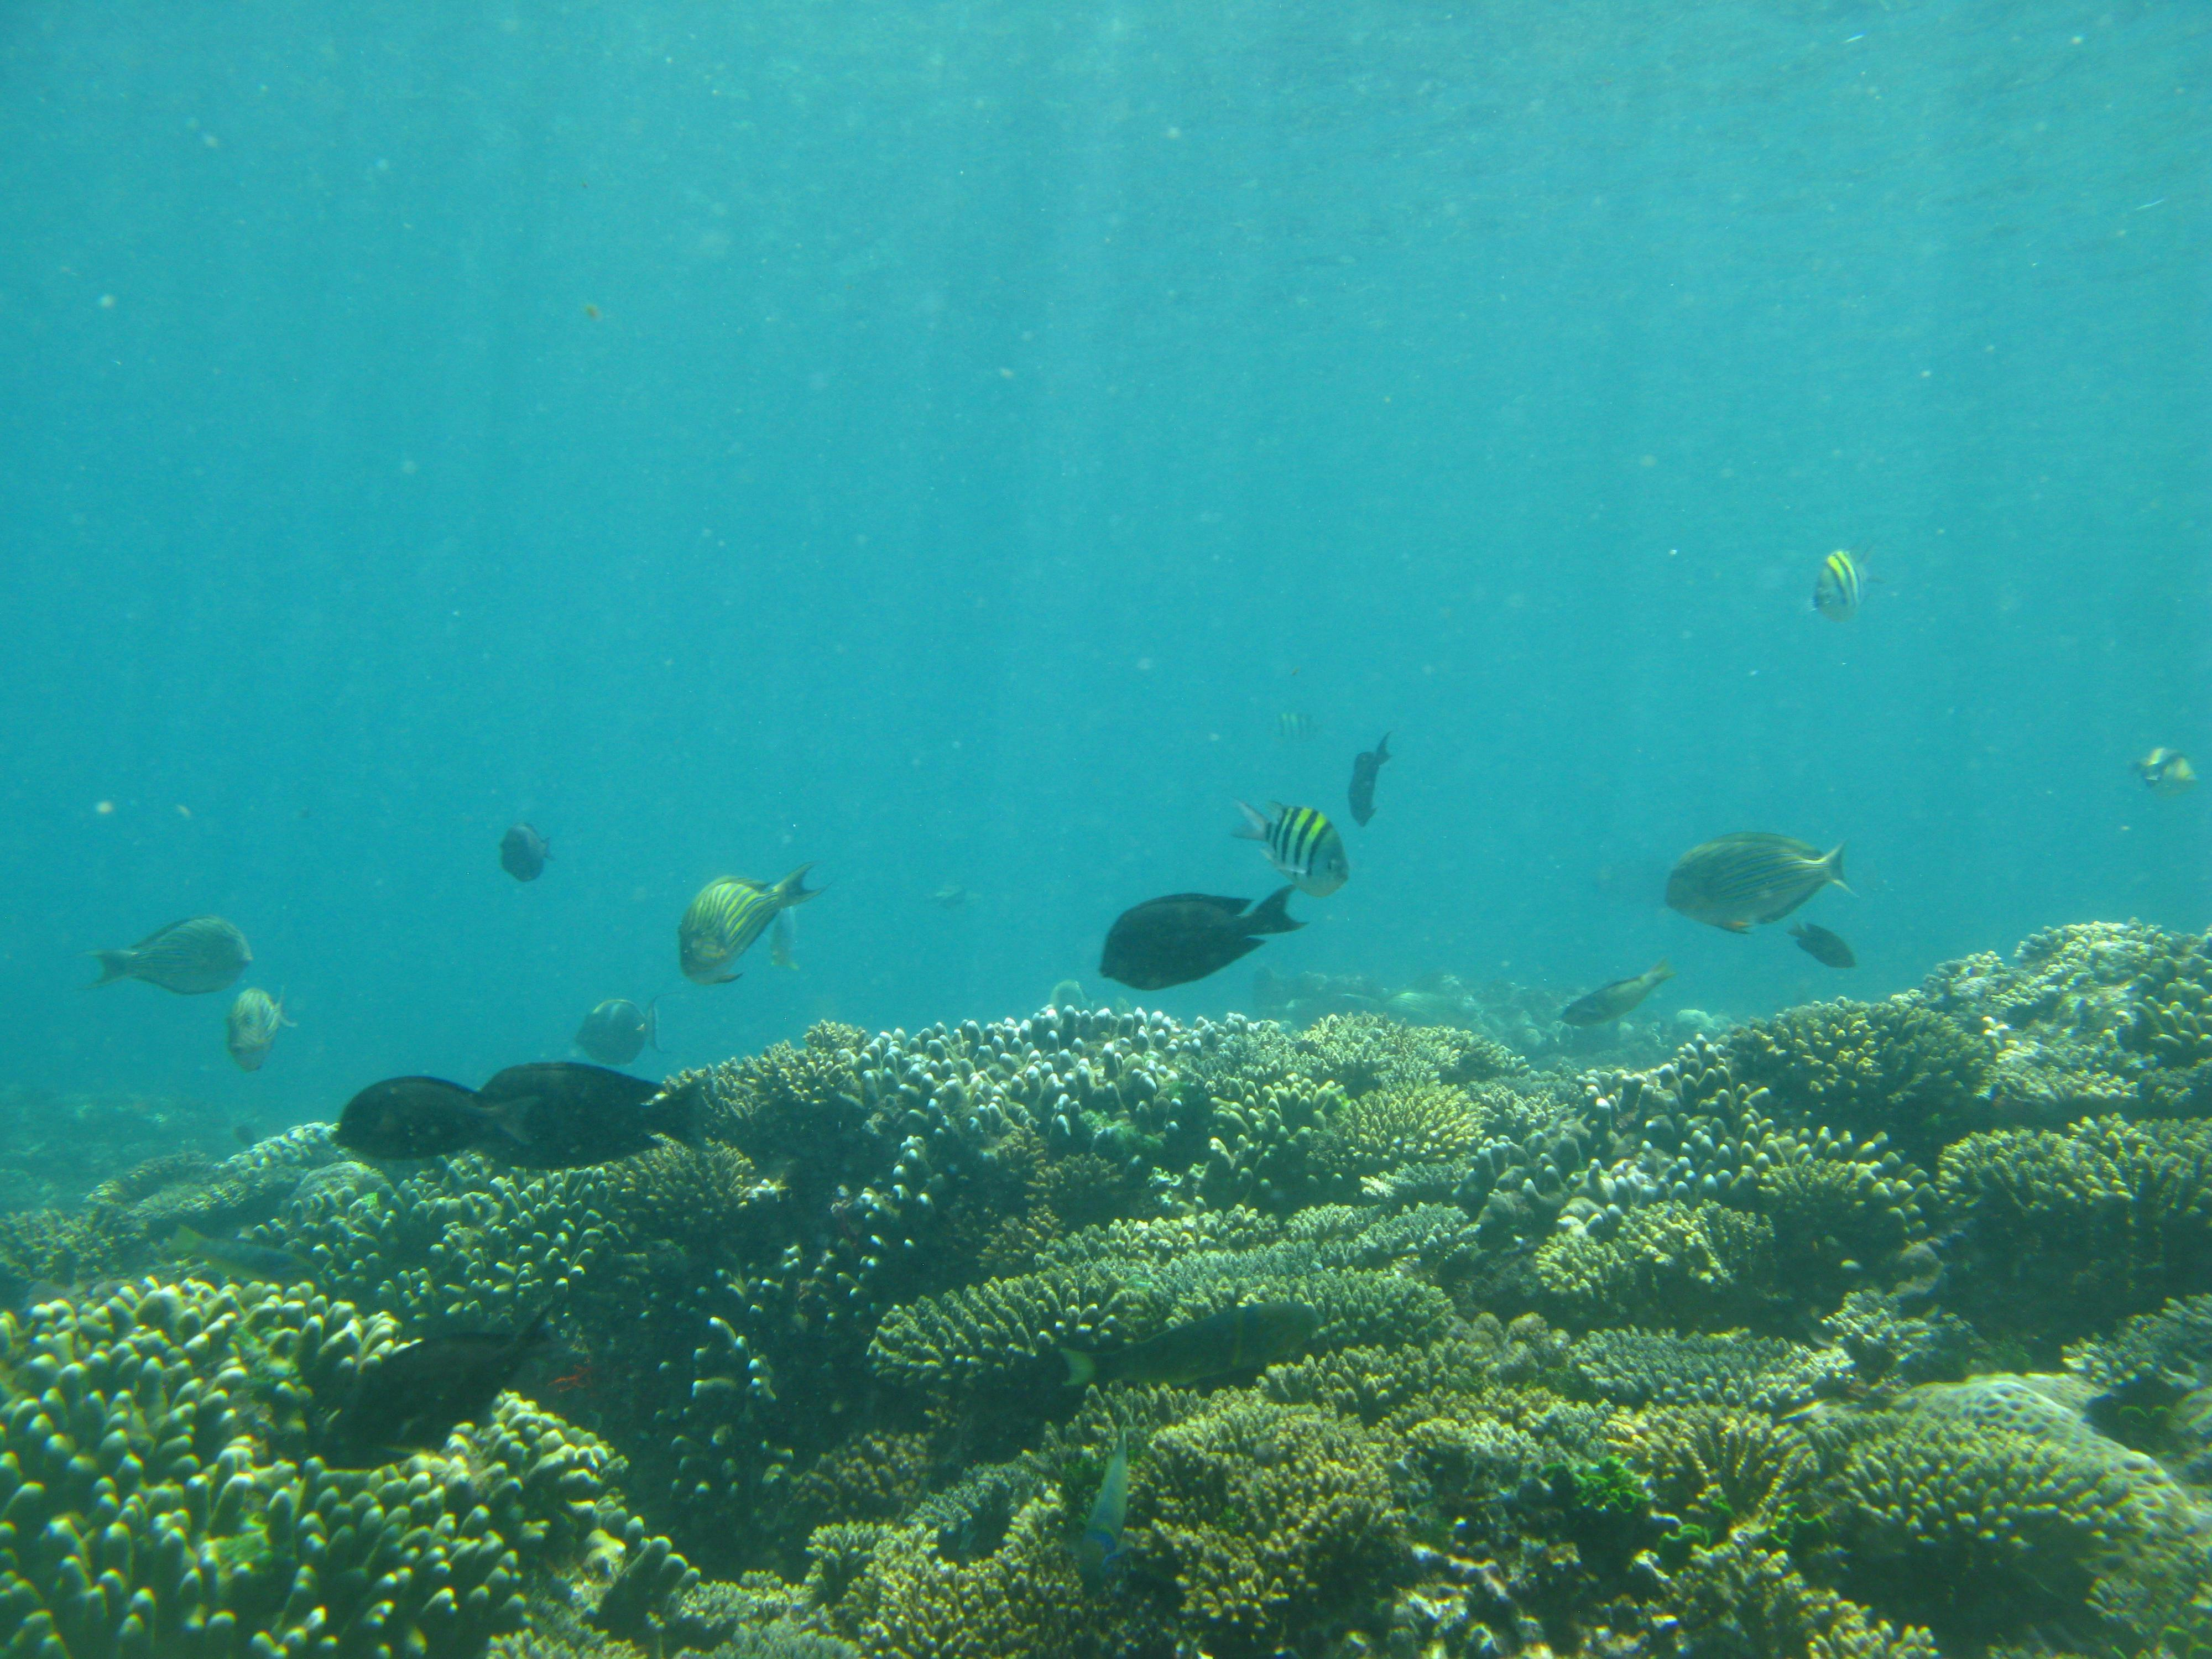Acanthurus lineatus: (1599, 816, 1905, 950), (606, 857, 867, 1011)
